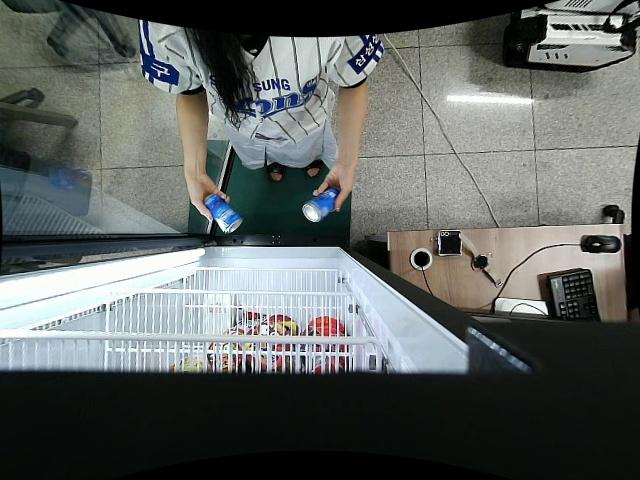00_hand: (312, 166, 354, 213), (189, 177, 231, 221)
15_letsbe: (203, 192, 244, 235), (303, 189, 338, 223)
